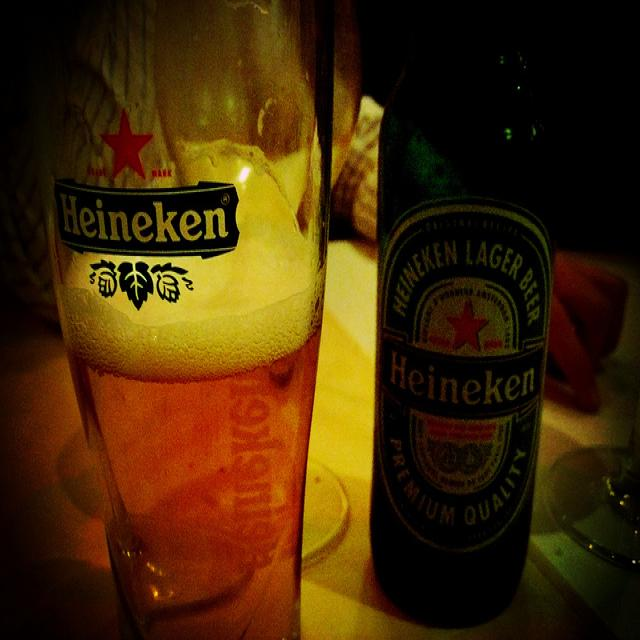Bottle: (33, 10, 319, 636), (377, 0, 546, 624)
